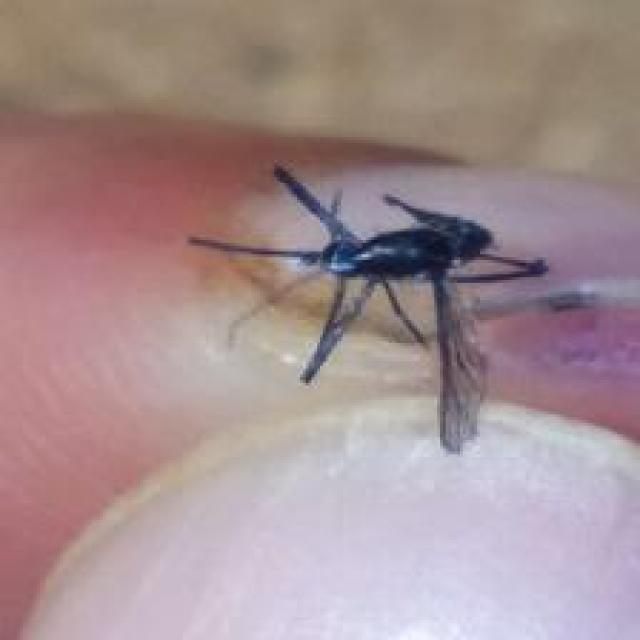Aedes albopictus: (185, 158, 640, 455)
